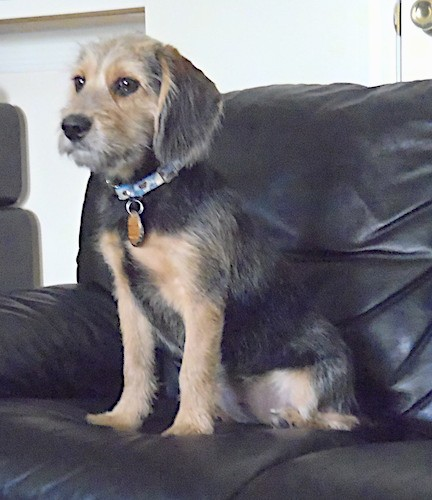dog: (46, 21, 380, 444)
